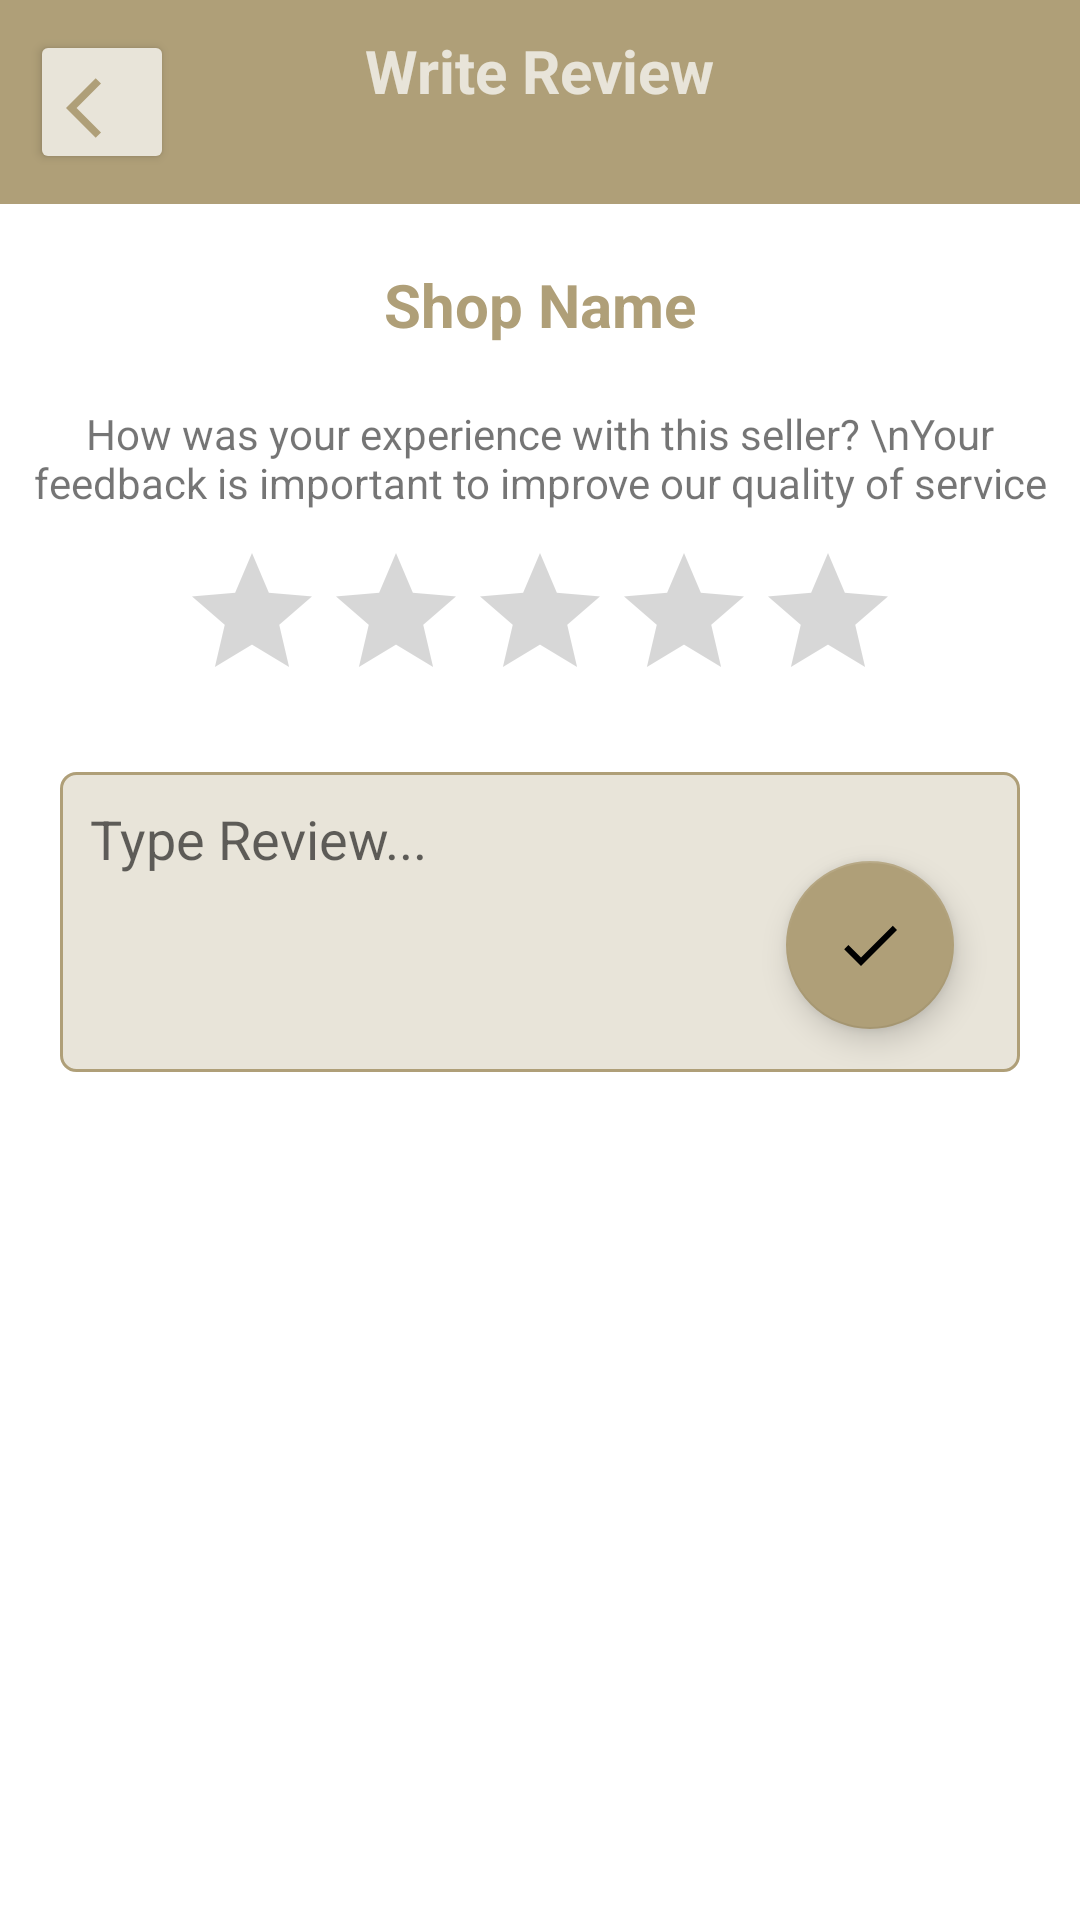

Named icons in this screenshot (1080*1920) and their centers, (x=x, y=y):
done: (x=870, y=945)
